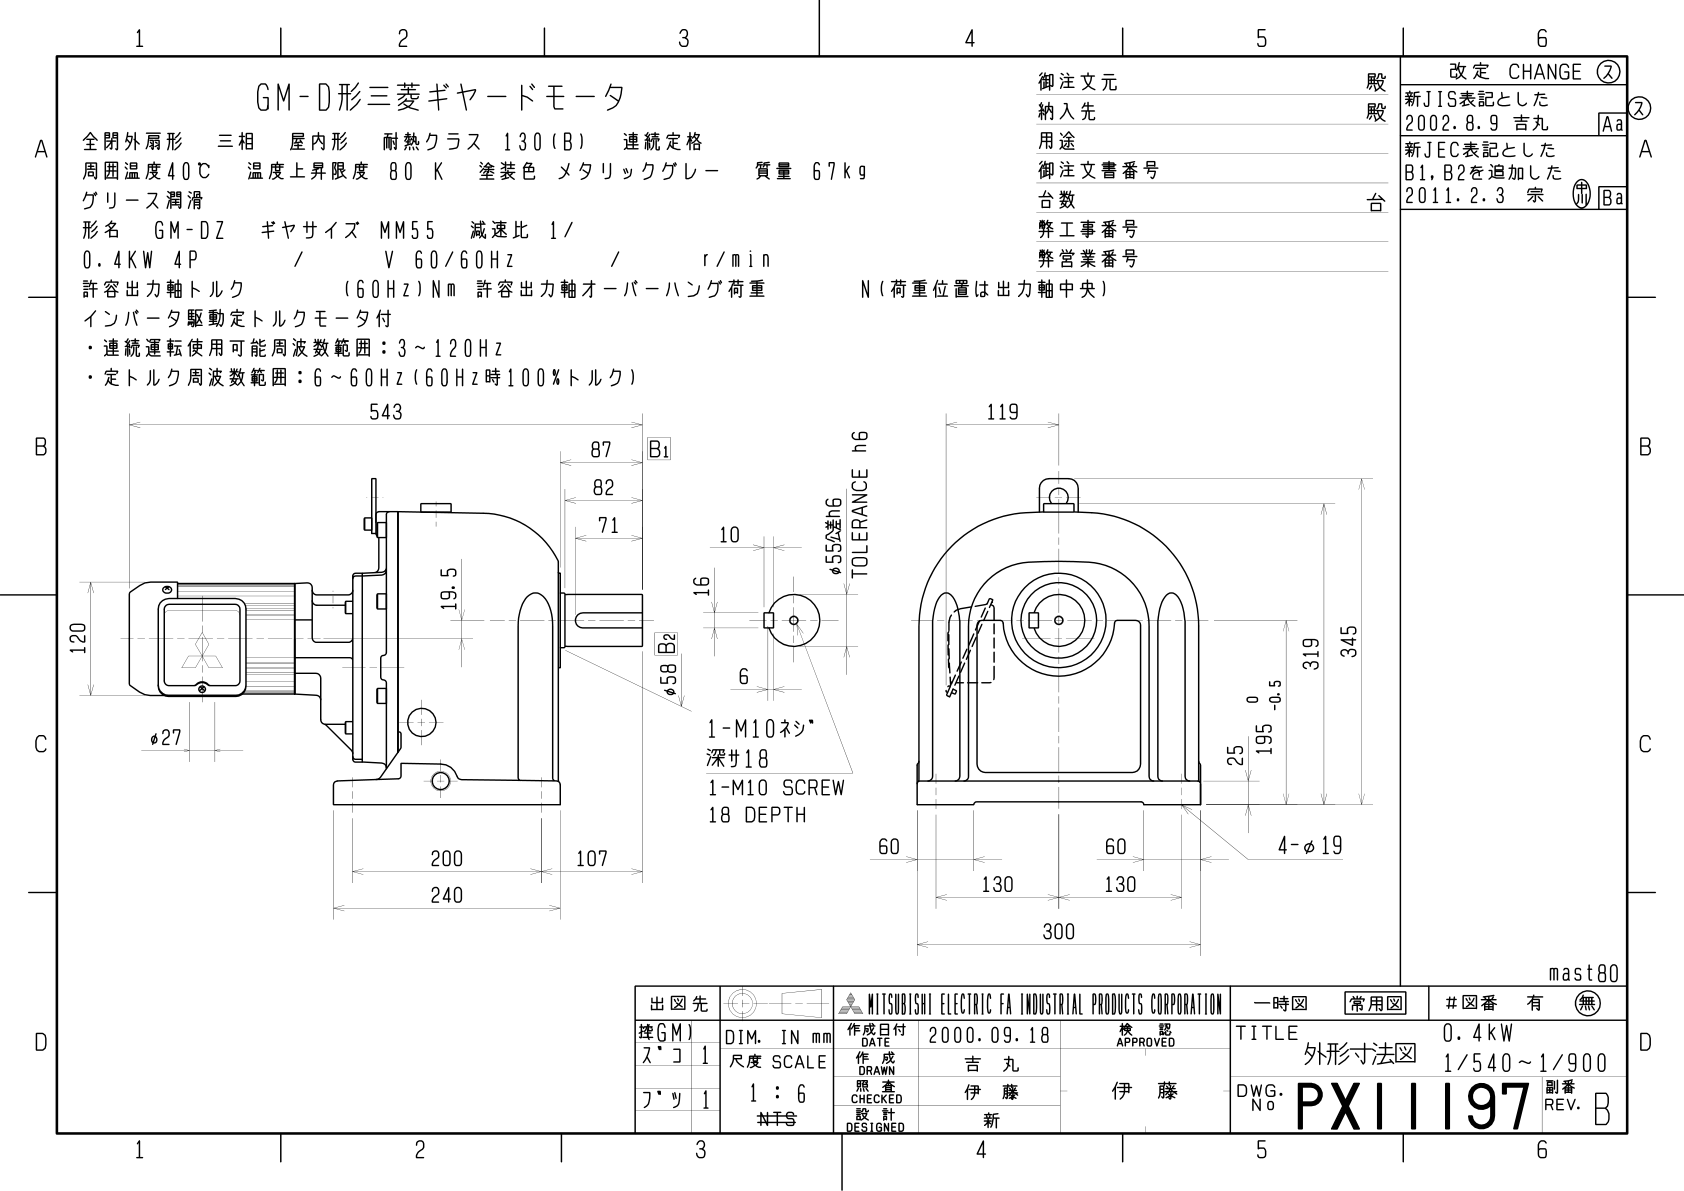GM_D_インバータ屋内_三相_脚: (5, 12, 1684, 1191)
